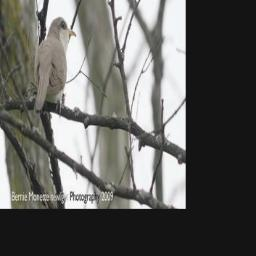Cuckoo: (33, 15, 75, 116)
